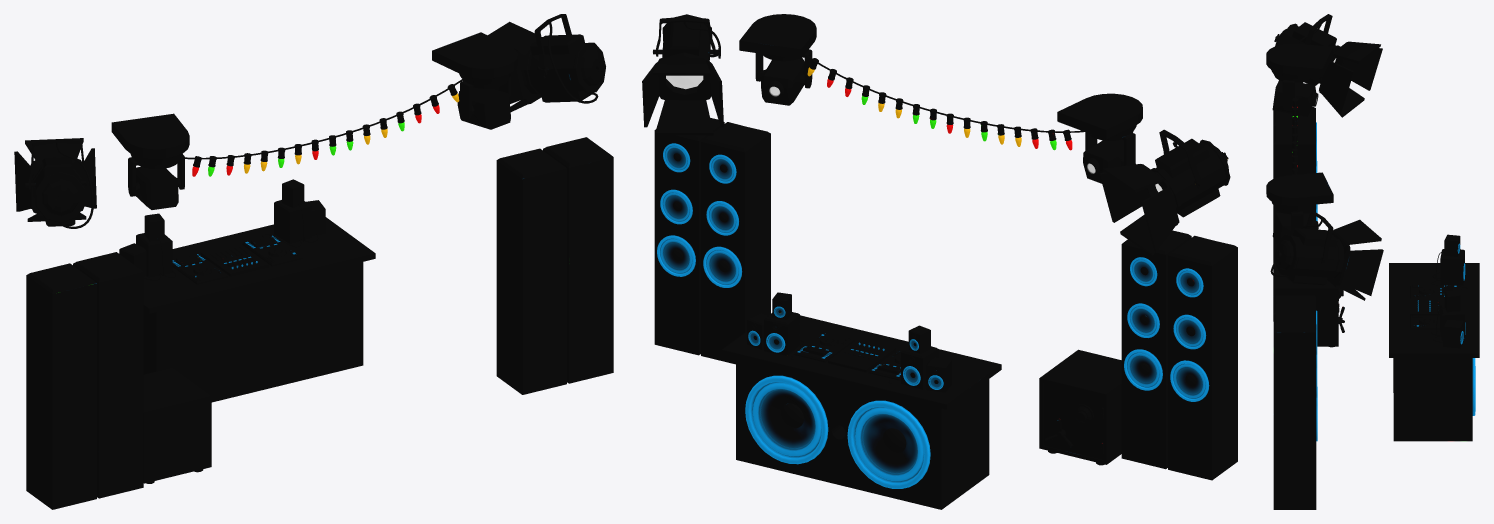
The model's file is sound_system.glb.
3 renders of one model, left to right at view 1: azimuth 30°, elevation 25°; view 2: azimuth 150°, elevation 25°; view 3: azimuth 270°, elevation 25°, orthographic. The views are drawn at different scales.
Parts seen in each view (by area): view 1: Object_7, Object_6, Object_4, Object_8, Object_3, Object_5; view 2: Object_7, Object_6, Object_8, Object_4, Object_3, Object_5; view 3: Object_6, Object_4, Object_7, Object_8, Object_3, Object_5.
Part boxes in pixels (x1,y1,x2,y2): Object_7: (26, 73, 566, 509); Object_6: (143, 137, 613, 402); Object_4: (14, 14, 605, 277); Object_8: (111, 32, 517, 272); Object_3: (128, 76, 510, 483); Object_5: (143, 14, 598, 280); Object_7: (657, 49, 1237, 488); Object_6: (654, 117, 1209, 509); Object_8: (736, 14, 1142, 509); Object_4: (642, 14, 1230, 391); Object_3: (663, 50, 1202, 474); Object_5: (659, 22, 1203, 383); Object_6: (1273, 204, 1475, 509); Object_4: (1274, 14, 1464, 348); Object_7: (1271, 24, 1479, 441); Object_8: (1266, 43, 1465, 347); Object_3: (1274, 81, 1462, 346); Object_5: (1270, 82, 1467, 342).
Size of the model in its own units: 62.78 by 36.08 by 24.8.
1 material, 1 textured.
